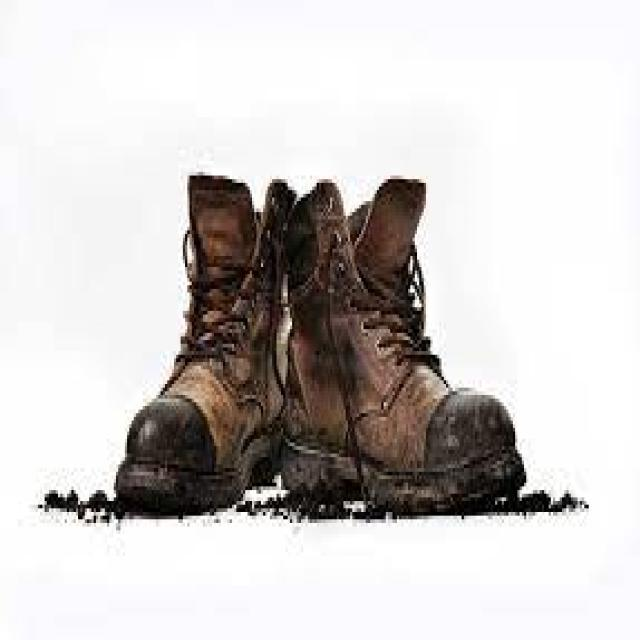shoes: (110, 176, 522, 514)
